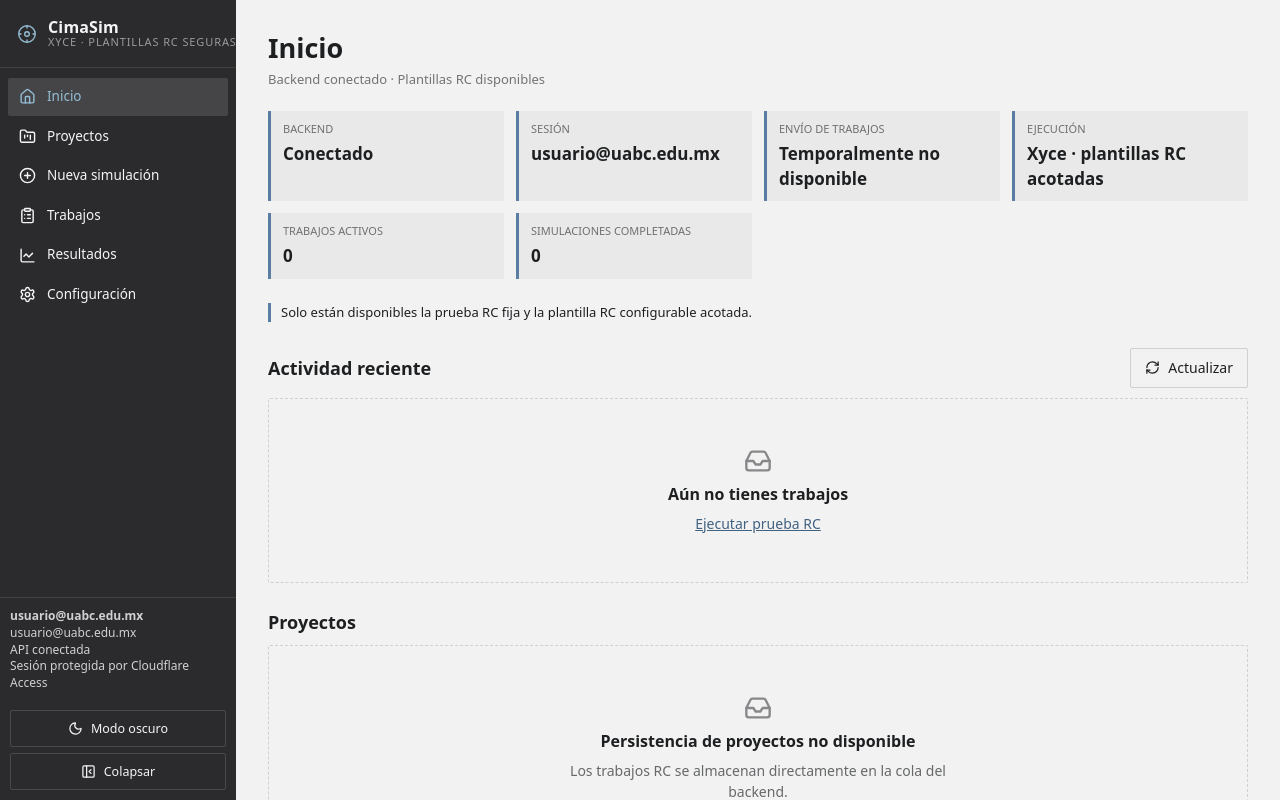
Test case: primary navigation › navigates between sections via the sidebar
Expected: the heading "Inicio" is shown, [268,29,343,66]
Step 1. Click the link "Proyectos" → [64, 136], box [19,127,109,145]
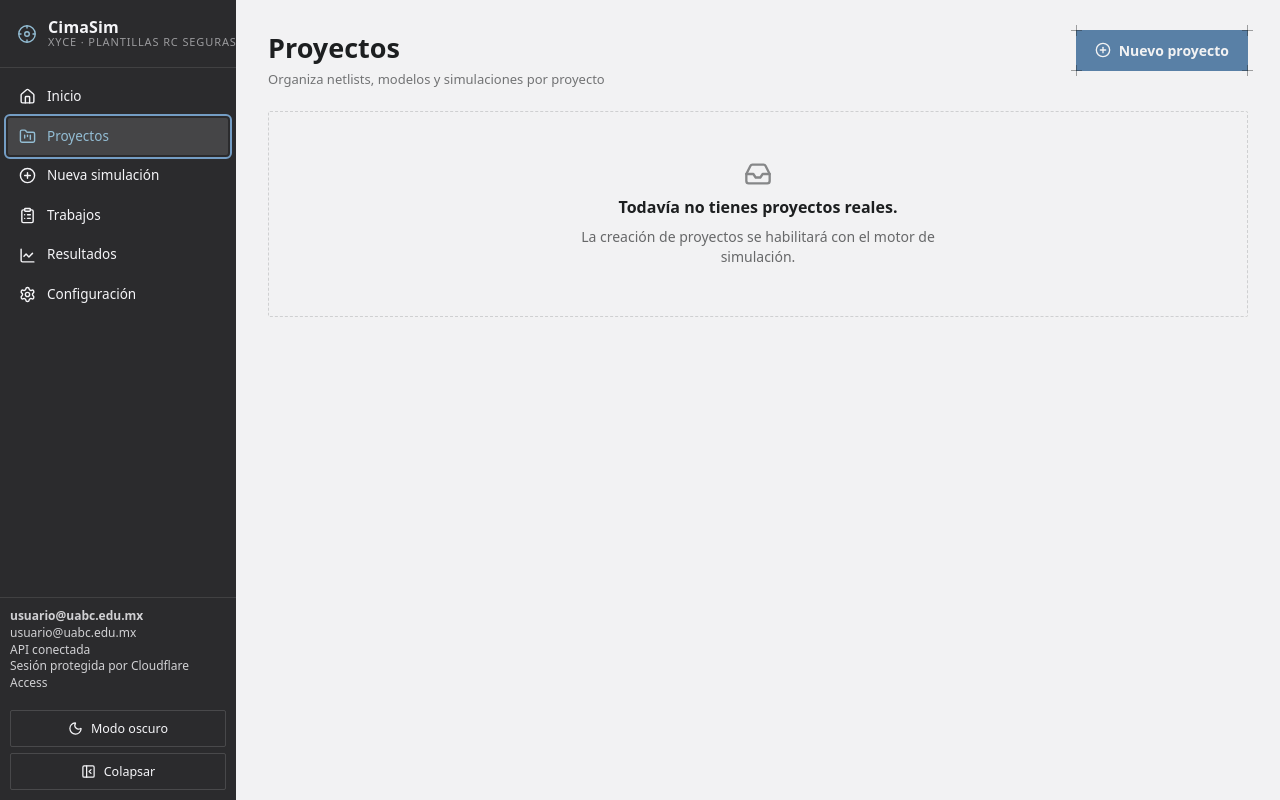
Result: the heading "Proyectos" is shown at [268,29,400,66]
Step 2. Click the link "Trabajos" → [60, 215], box [19,206,101,224]
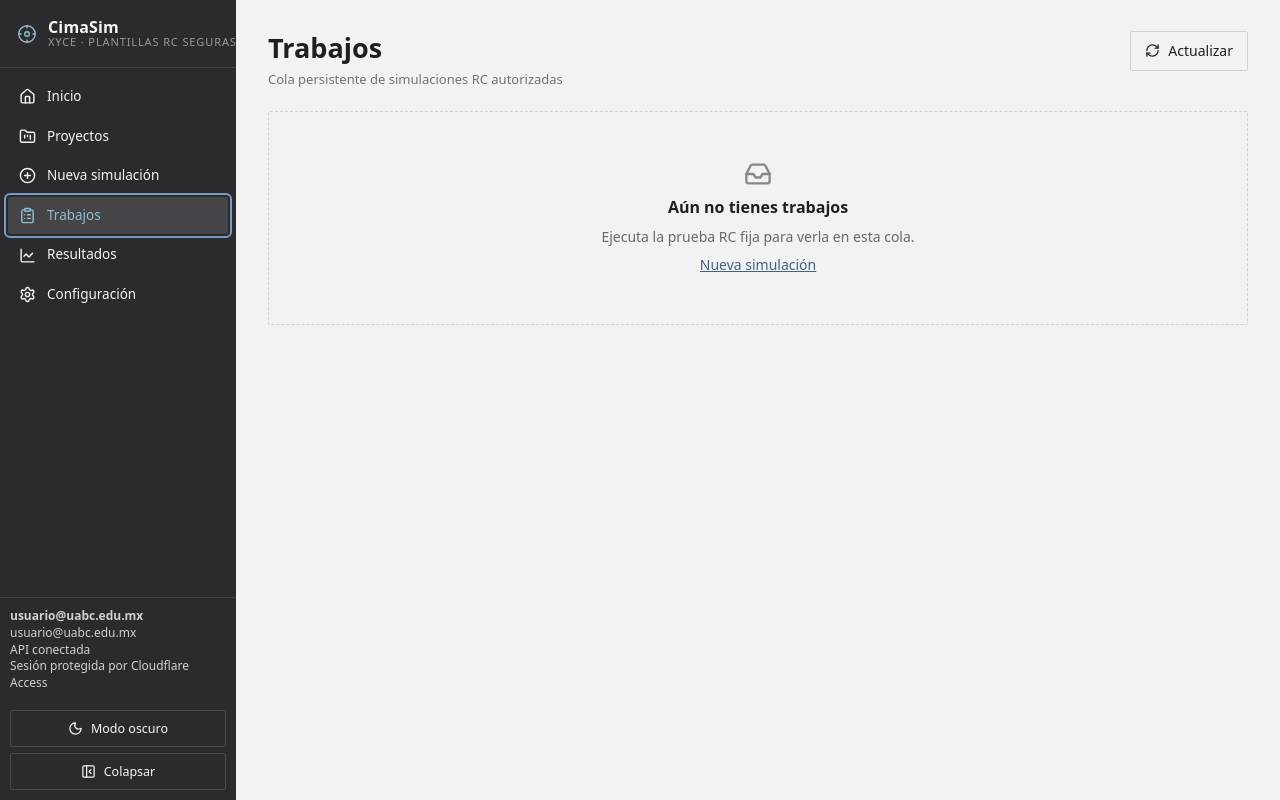
Result: the heading "Trabajos" is shown at [268,29,382,66]
Step 3. Click the link "Resultados" → [68, 254], box [19,245,117,264]
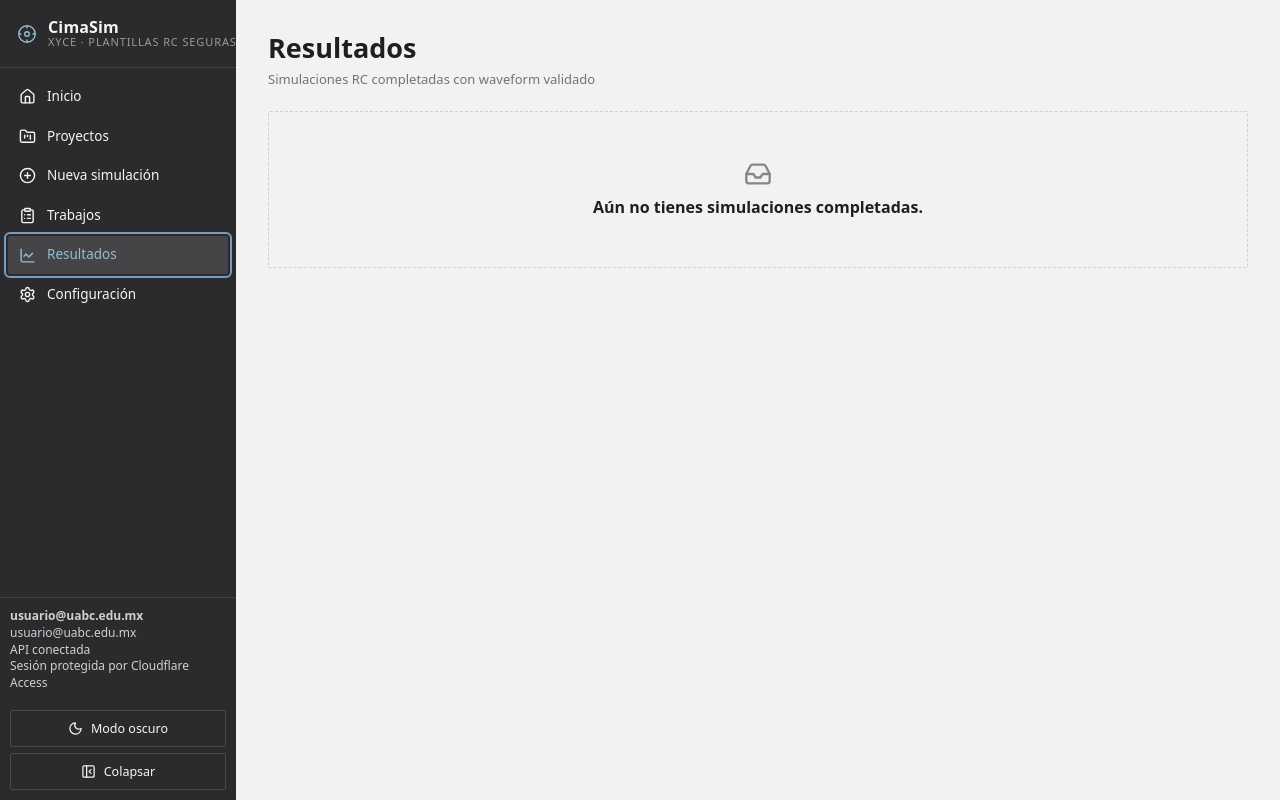
Result: the heading "Resultados" is shown at [268,29,416,66]
